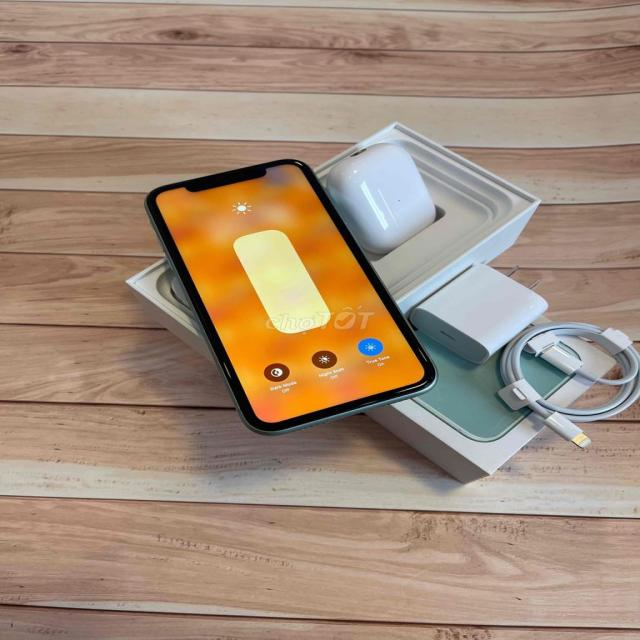gen_11: (146, 154, 442, 435)
